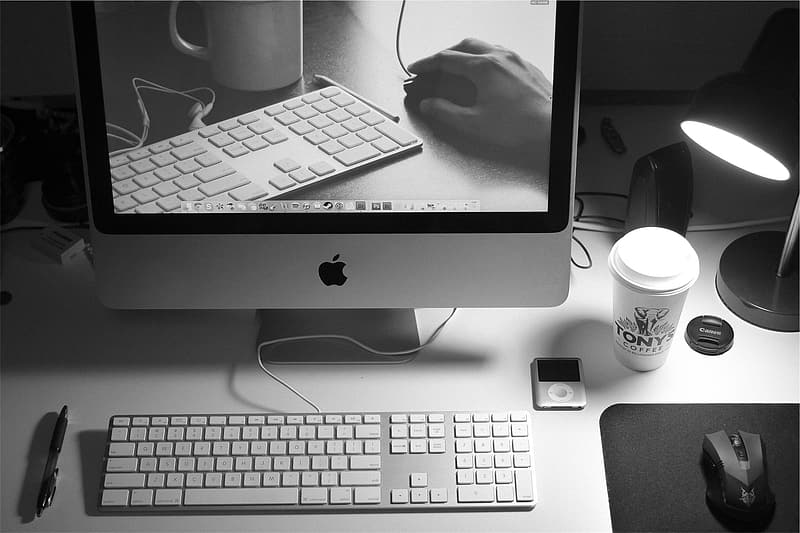keyboard: (90, 398, 546, 523)
monitor: (62, 1, 580, 317)
mouse: (691, 414, 786, 533)
